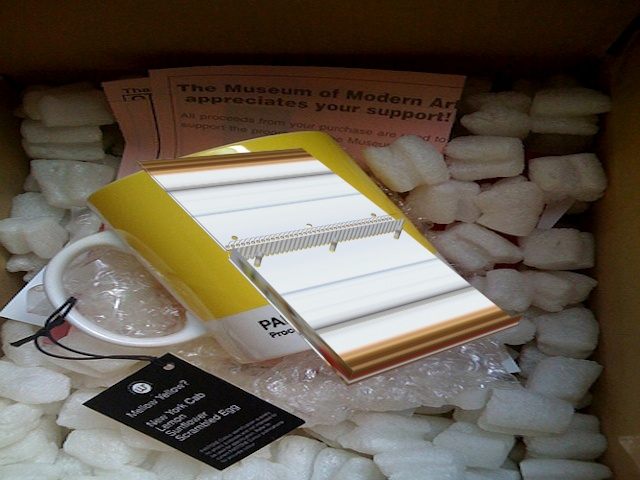paper_notebook: (128, 144, 529, 400)
